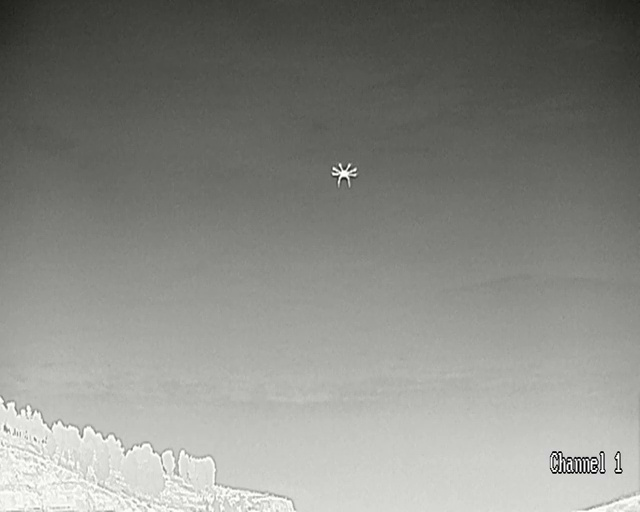uav: (331, 162, 357, 187)
